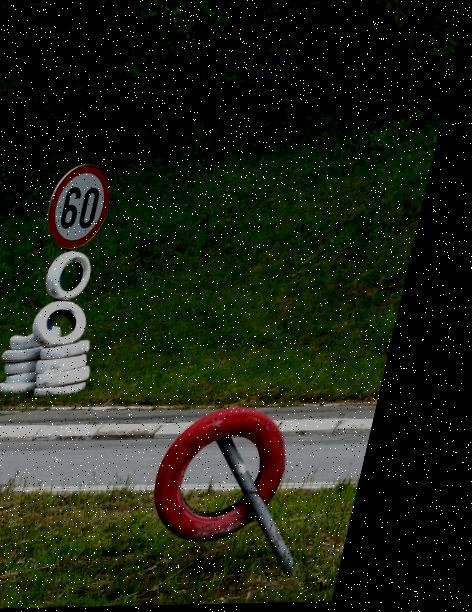Speed Limit -60-: (51, 157, 129, 250)
